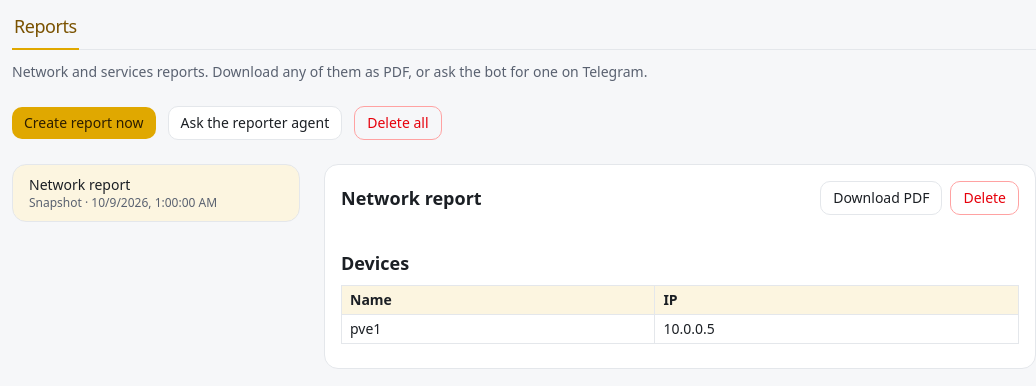
it: ReportsPage › deletes all reports at once after confirming
This screenshot has width=1036, height=386.
Click the button "Delete all".
click(398, 123)  # box [354,106,442,140]
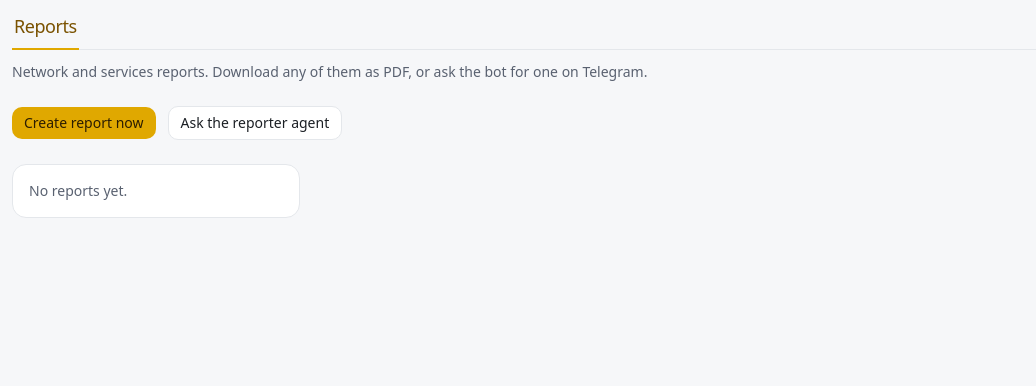
Result: the text "No reports yet." is shown at [29,181,127,200]
